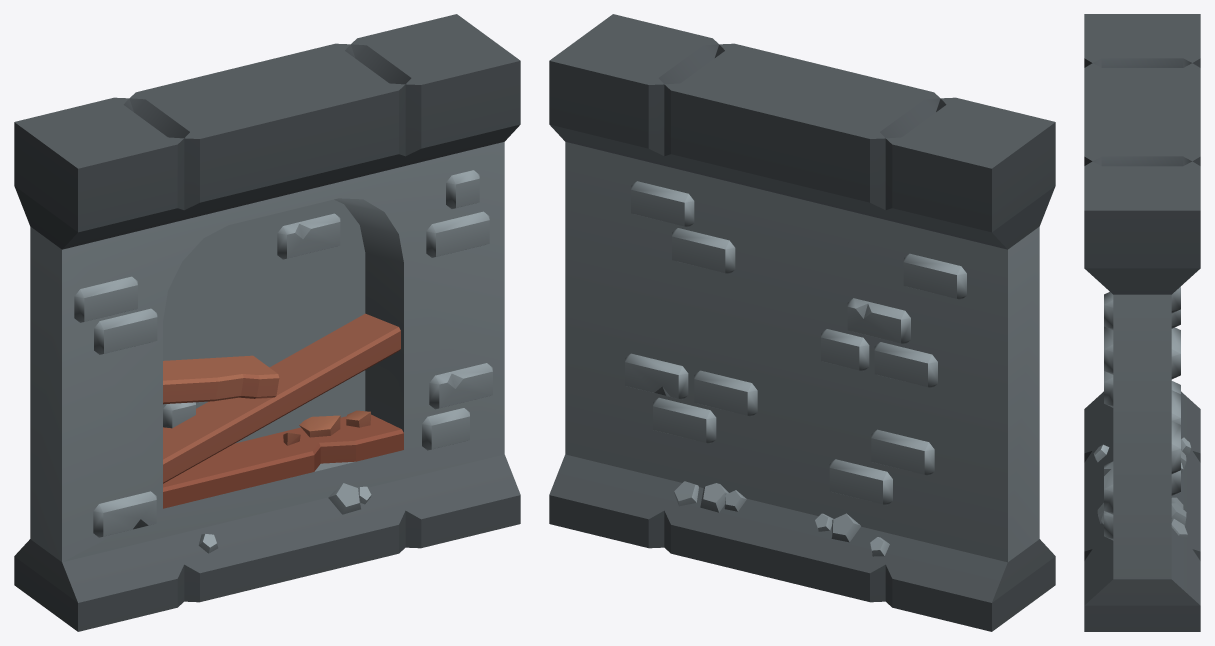
Rendered from wall_inset_shelves_broken.glb.
3 renders of one model, left to right at view 1: azimuth 30°, elevation 25°; view 2: azimuth 150°, elevation 25°; view 3: azimuth 270°, elevation 25°, orthographic. The views are drawn at different scales.
Parts seen in each view (by area): view 1: wall_inset_shelves_broken; view 2: wall_inset_shelves_broken; view 3: wall_inset_shelves_broken.
Part boxes in pixels (<box>): wall_inset_shelves_broken: <box>14,14,520,631</box>; wall_inset_shelves_broken: <box>549,14,1055,631</box>; wall_inset_shelves_broken: <box>1084,14,1200,631</box>.
Bounding box in the file's own units: 4 × 4 × 1.
1 material, 1 textured.
